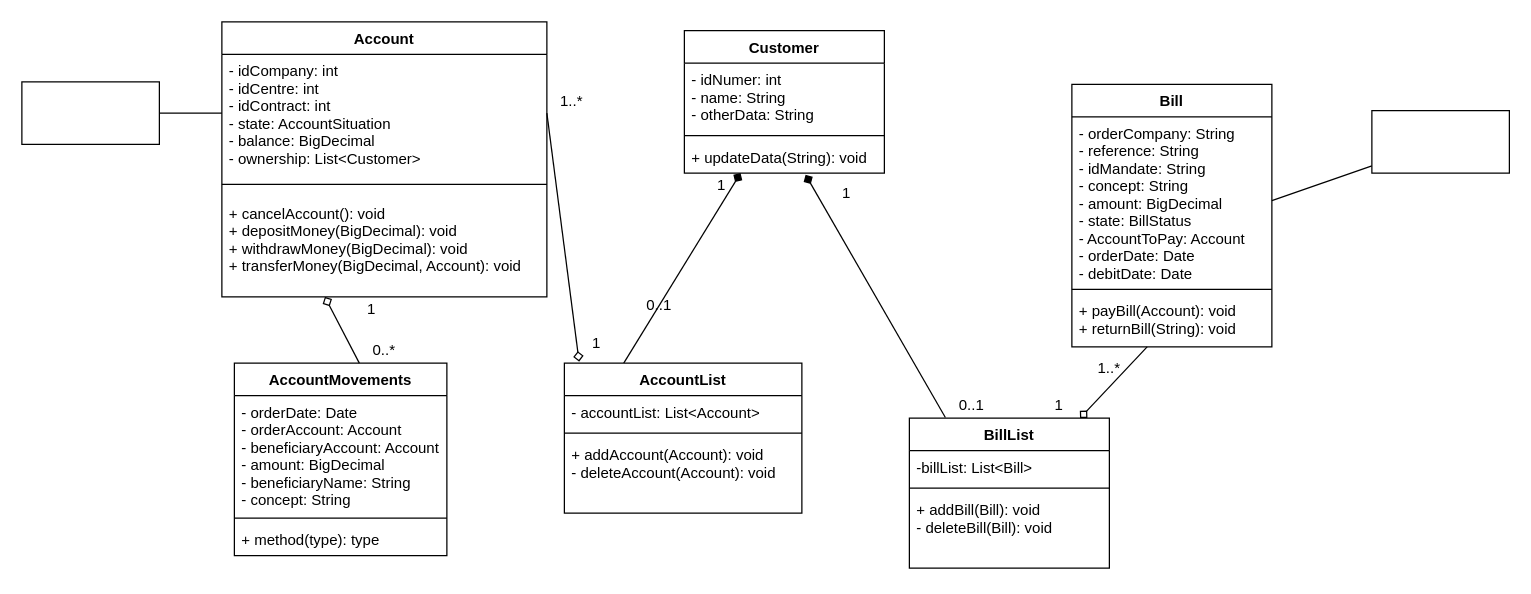
This 1531x594 diagram has some shape labels left out. Each missing label, with the centre of its shape:
«enum» AccountSituation: the point at 90,112
«enum» BillStatus: the point at 1440,141
